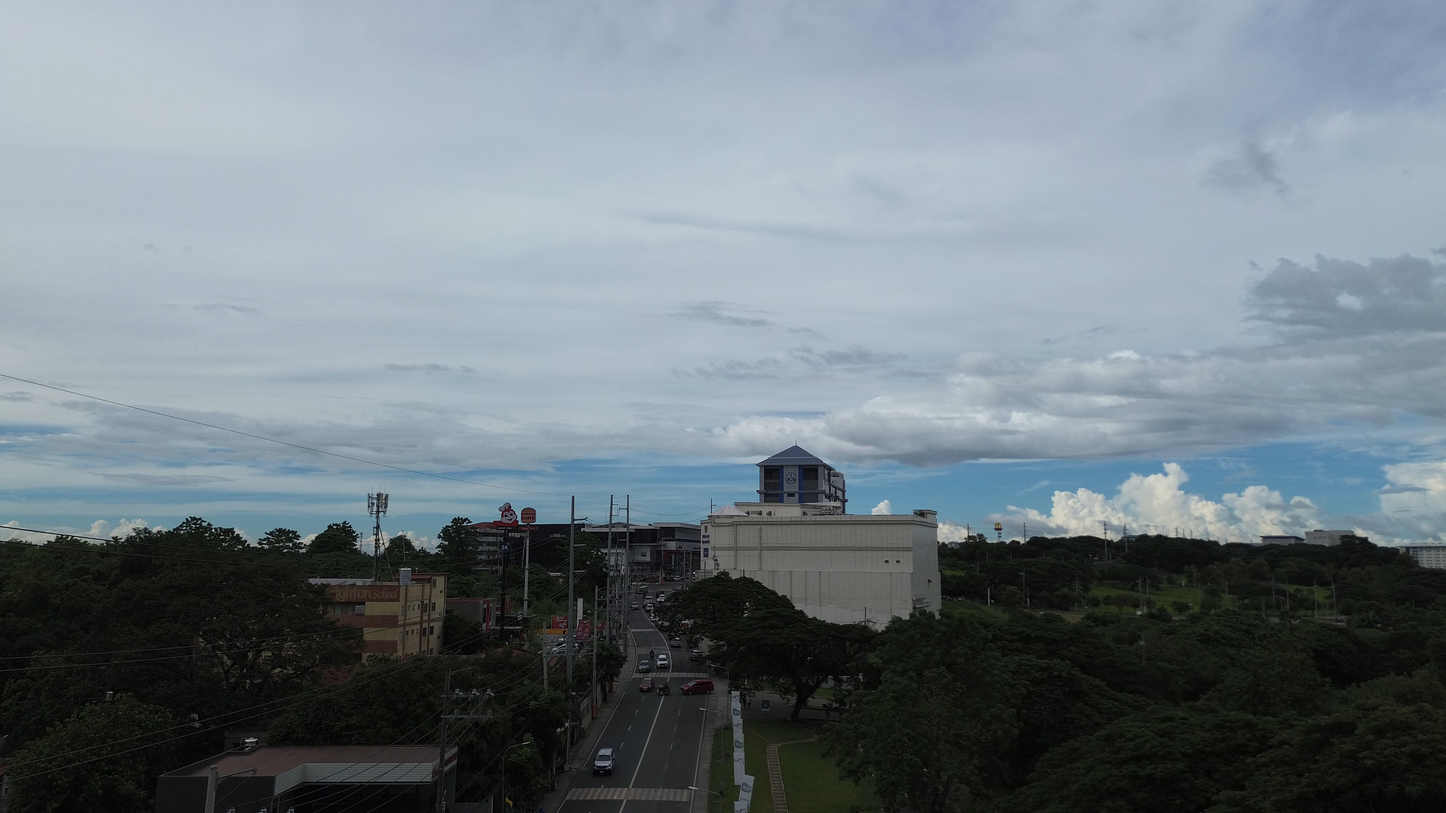car: (593, 748, 614, 775), (680, 679, 714, 694), (669, 636, 682, 648)
vehicle: (656, 653, 669, 669), (637, 659, 651, 673), (640, 678, 654, 691), (689, 649, 703, 661), (656, 682, 670, 694), (644, 601, 654, 612), (630, 601, 640, 611)
